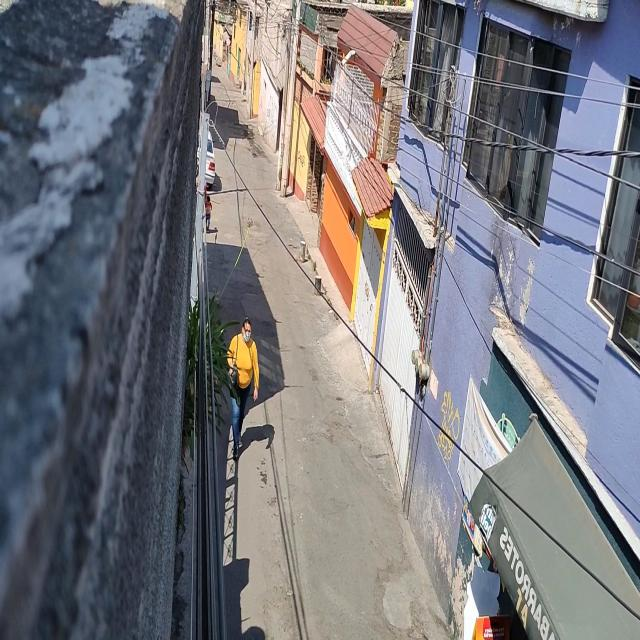adult: (226, 316, 259, 460)
